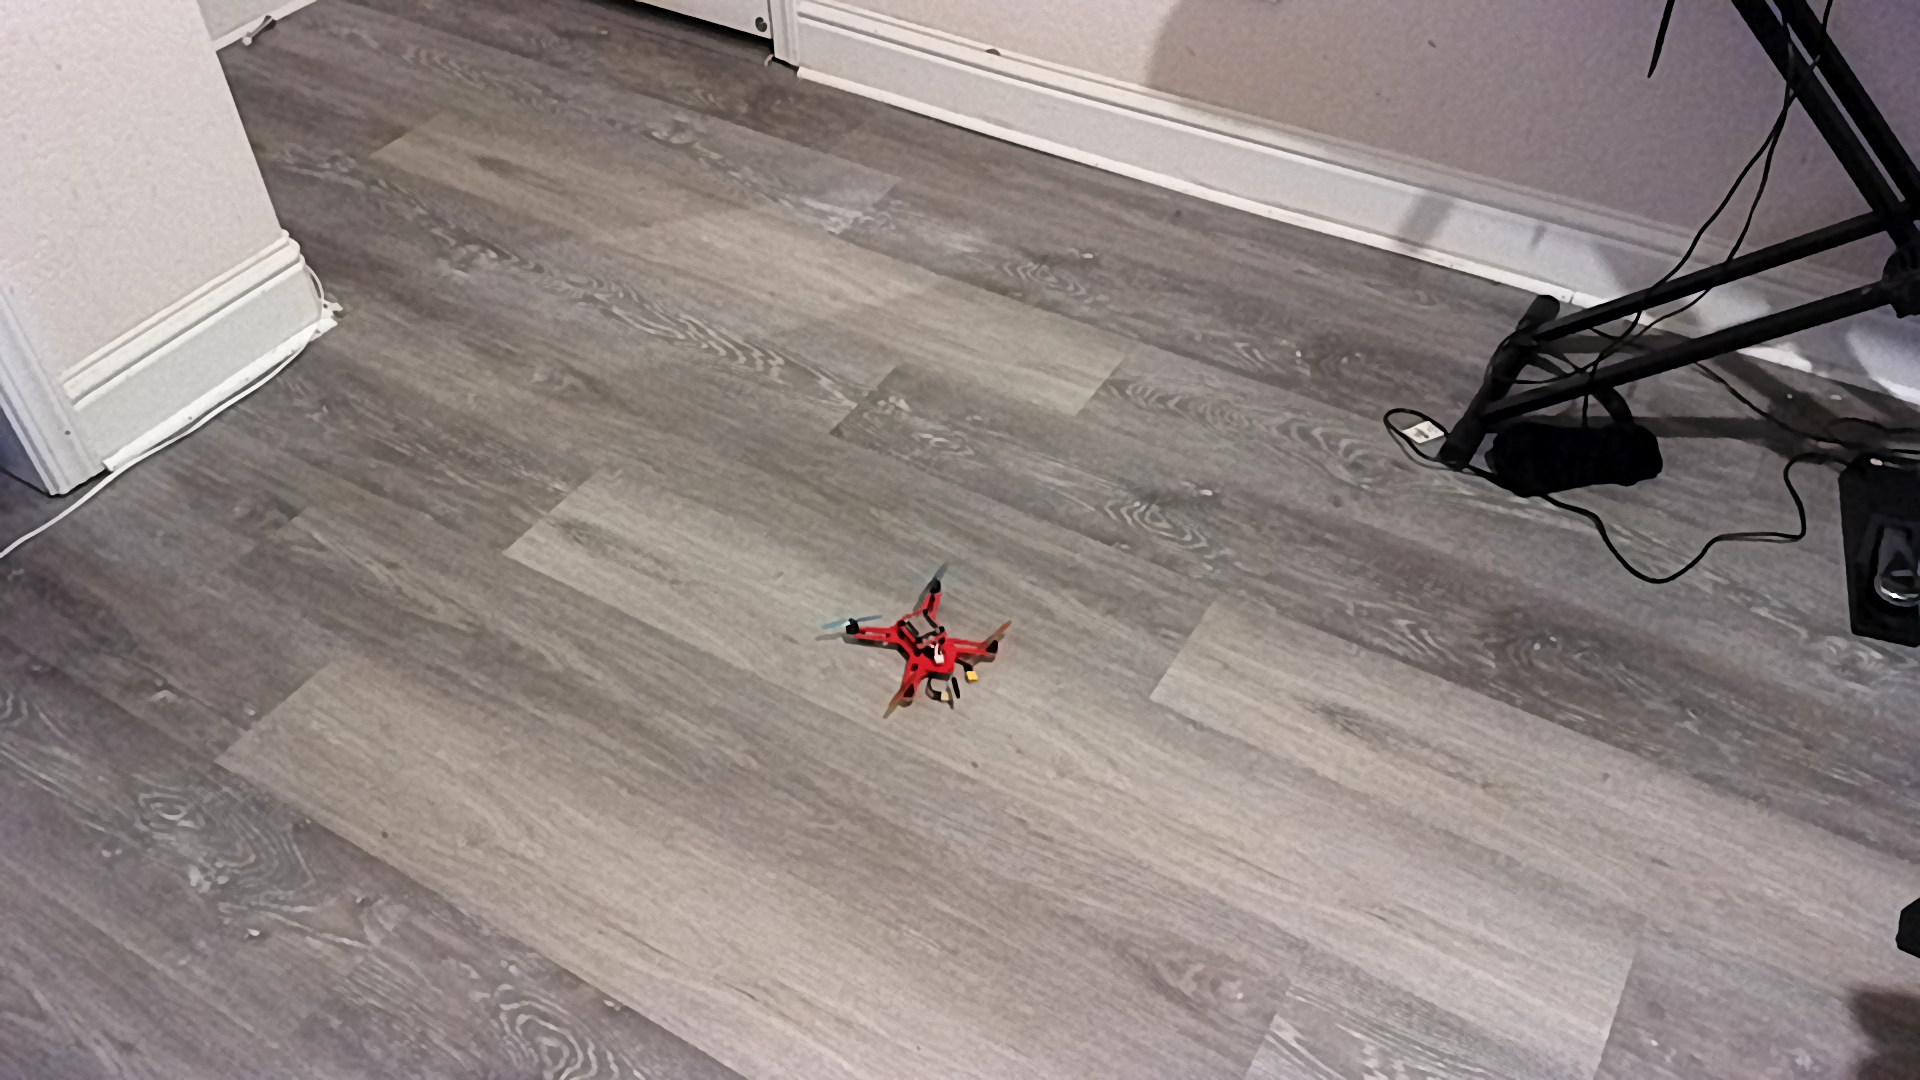drone: (822, 560, 1031, 725)
